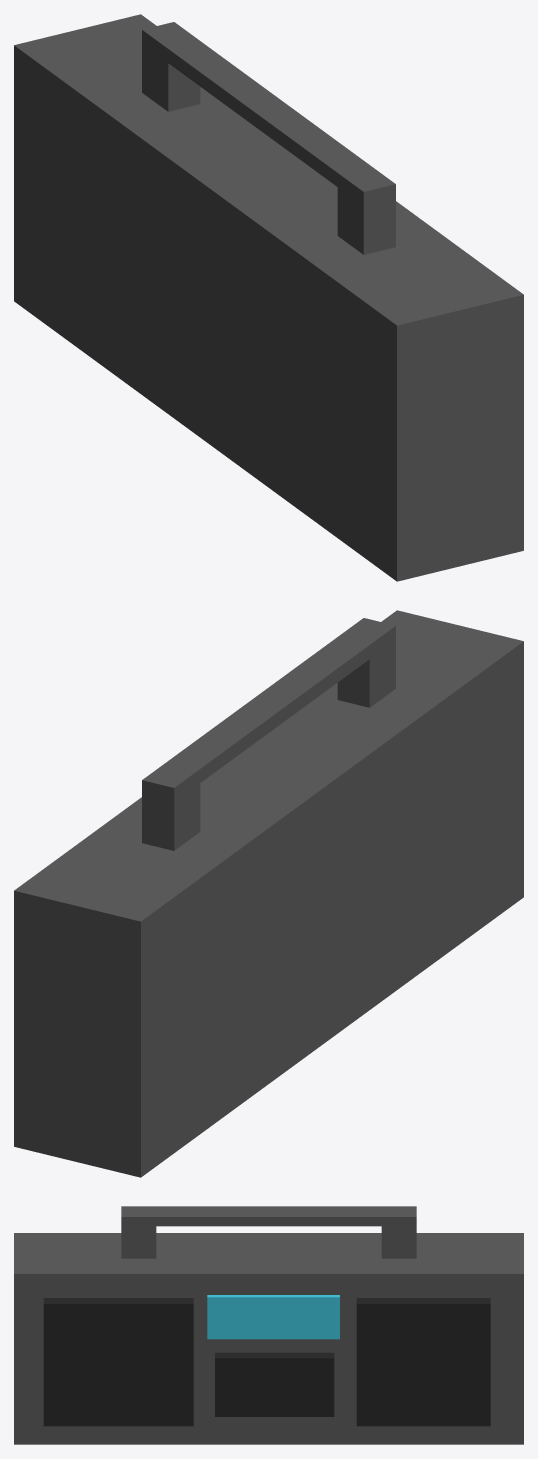
File: Radio.fbx
The picture shows the model from 3 angles, top to bottom: view 1: azimuth 30°, elevation 25°; view 2: azimuth 150°, elevation 25°; view 3: azimuth 270°, elevation 25°; orthographic projection. The views are drawn at different scales.
Parts seen in each view (by area): view 1: Cube, Cube.001; view 2: Cube, Cube.001; view 3: Cube, Cube.002, Cube.003, Cube.001, Cube.004, Cube.005.
Part boxes in pixels (box(x1,y1,x2,y2)): Cube: box(14, 14, 523, 581); Cube.001: box(142, 22, 395, 254); Cube: box(14, 610, 523, 1177); Cube.001: box(142, 618, 395, 850); Cube: box(14, 1233, 523, 1444); Cube.002: box(43, 1298, 193, 1426); Cube.003: box(356, 1298, 490, 1426); Cube.001: box(121, 1206, 416, 1258); Cube.004: box(215, 1352, 334, 1416); Cube.005: box(207, 1295, 339, 1339).
Size of the model in its own units: 230 by 481 by 1046.
